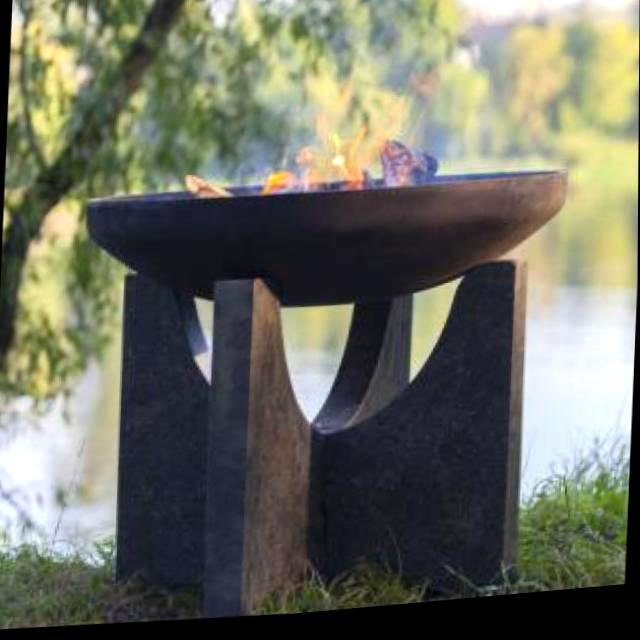fire: (173, 125, 409, 215)
